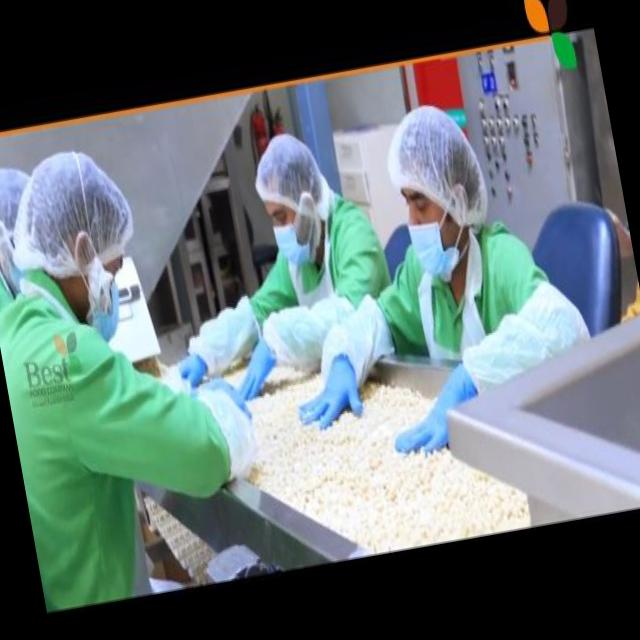hairnet: (12, 148, 134, 266), (390, 105, 480, 210), (251, 128, 330, 222), (0, 160, 25, 231)
